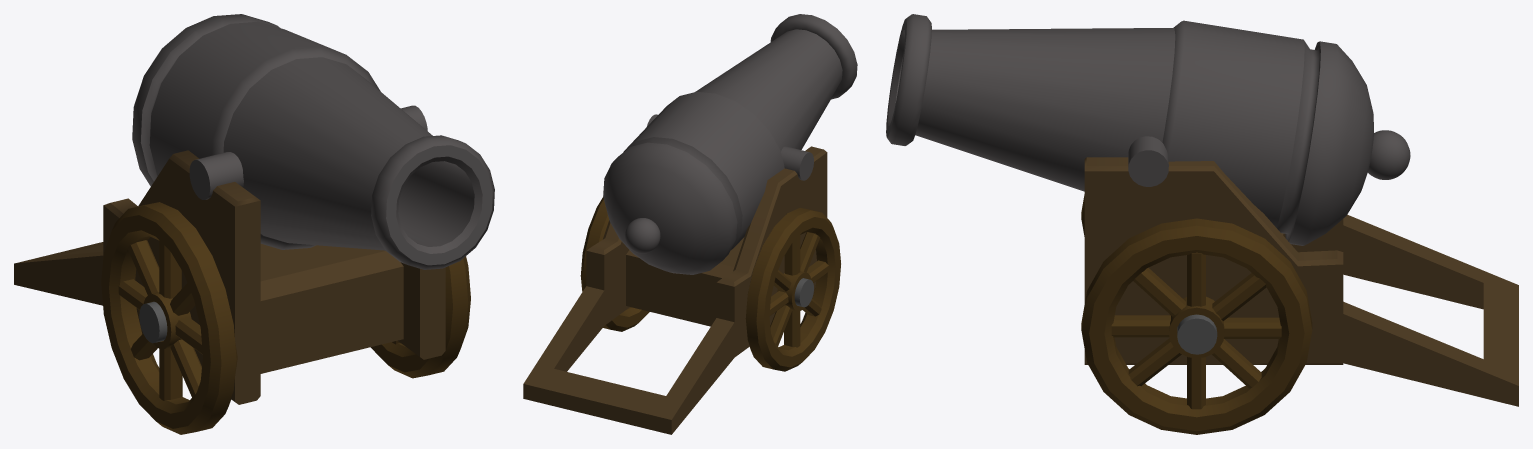
Rendered from Cañon.fbx.
3 renders of one model, left to right at view 1: azimuth 30°, elevation 25°; view 2: azimuth 150°, elevation 25°; view 3: azimuth 270°, elevation 25°, orthographic. The views are drawn at different scales.
Visible parts, largest first — view 1: Cañon, Soporte, Rueda_1, Rueda_2, union_ruedas; view 2: Cañon, Soporte, Rueda_1, Rueda_2, union_ruedas; view 3: Cañon, Soporte, Rueda_2, union_ruedas.
Part boxes in pixels (bbox=[...]): Cañon: bbox=[132, 14, 494, 269]; Soporte: bbox=[14, 150, 445, 404]; Rueda_1: bbox=[101, 202, 237, 434]; Rueda_2: bbox=[370, 256, 470, 378]; union_ruedas: bbox=[139, 301, 167, 343]; Cañon: bbox=[603, 14, 857, 274]; Soporte: bbox=[523, 146, 827, 434]; Rueda_1: bbox=[745, 208, 840, 371]; Rueda_2: bbox=[580, 197, 649, 331]; union_ruedas: bbox=[794, 278, 813, 307]; Cañon: bbox=[886, 14, 1410, 245]; Soporte: bbox=[1084, 157, 1518, 406]; Rueda_2: bbox=[1081, 218, 1312, 434]; union_ruedas: bbox=[1177, 314, 1217, 354].
Bounding box in the file's own units: 5.8 × 7.37 × 11.86.
